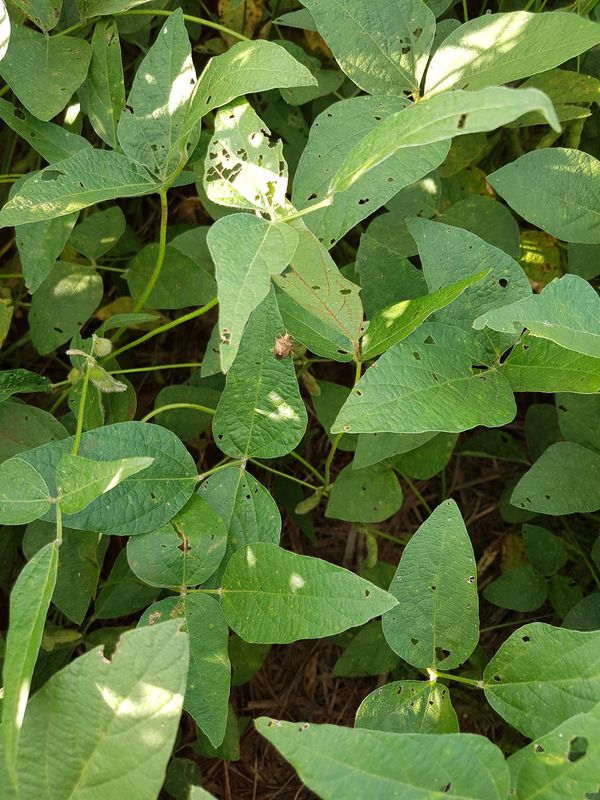Euschistus_heros_adulto: (266, 328, 301, 364)
